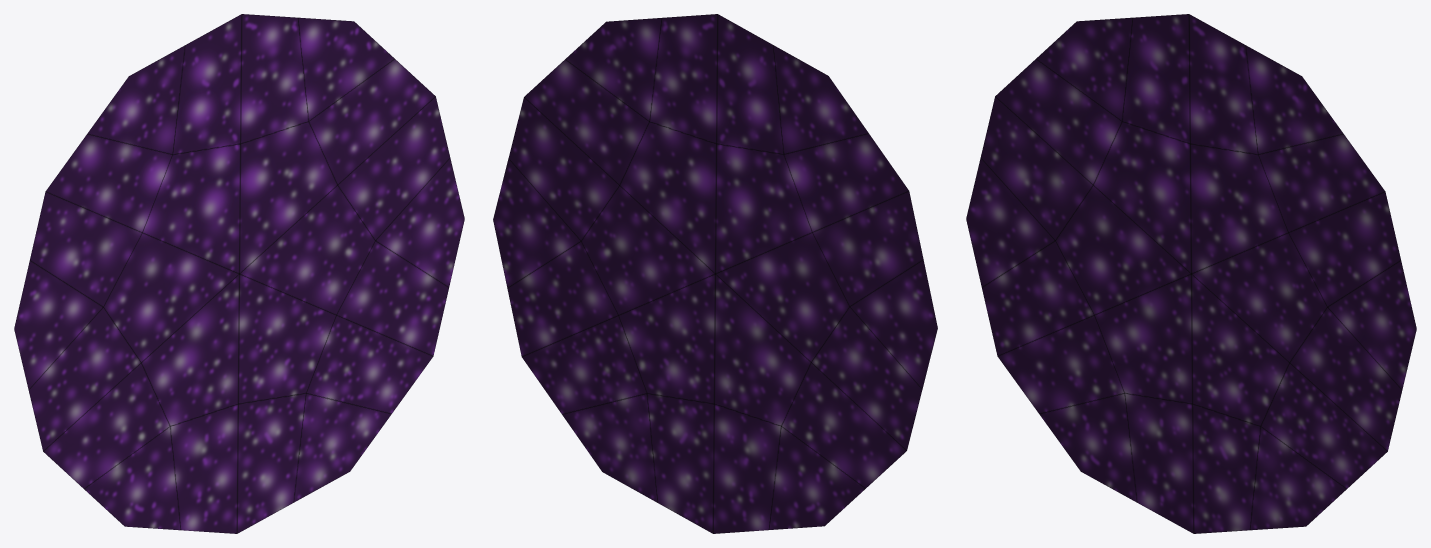
Rendered from inneer.gltf.
3 views of the same model, side by side, from view 1: azimuth 30°, elevation 25°; view 2: azimuth 150°, elevation 25°; view 3: azimuth 330°, elevation 25° (orthographic).
Visible parts, largest first — view 1: pDisc1; view 2: pDisc1; view 3: pDisc1.
Boxes of the visible parts, x1,y1,x2,y2 form: pDisc1: (14, 14, 464, 533); pDisc1: (493, 14, 937, 533); pDisc1: (966, 14, 1416, 533).
Size of the model in its own units: 7.53 by 8.36 by 0.1351.
1 material, 1 textured.
